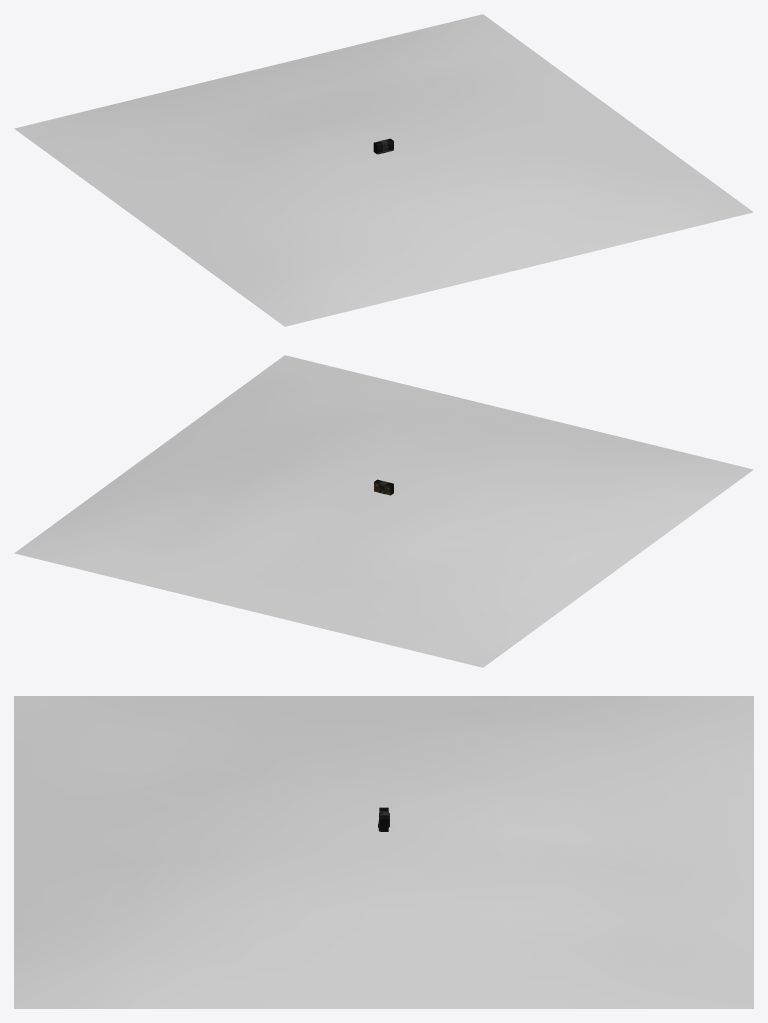
3 renders of one model, top to bottom at view 1: azimuth 30°, elevation 25°; view 2: azimuth 150°, elevation 25°; view 3: azimuth 270°, elevation 25°, orthographic. The views are drawn at different scales.
Parts seen in each view (by area): view 1: Object_2; view 2: Object_2; view 3: Object_2.
Boxes of the visible parts, x1,y1,x2,y2 form: Object_2: [14, 14, 753, 326]; Object_2: [14, 355, 753, 667]; Object_2: [14, 696, 753, 1008].
Size of the model in its own units: 12 by 0.706 by 12.
Materials: 2 (1 with a texture image).
